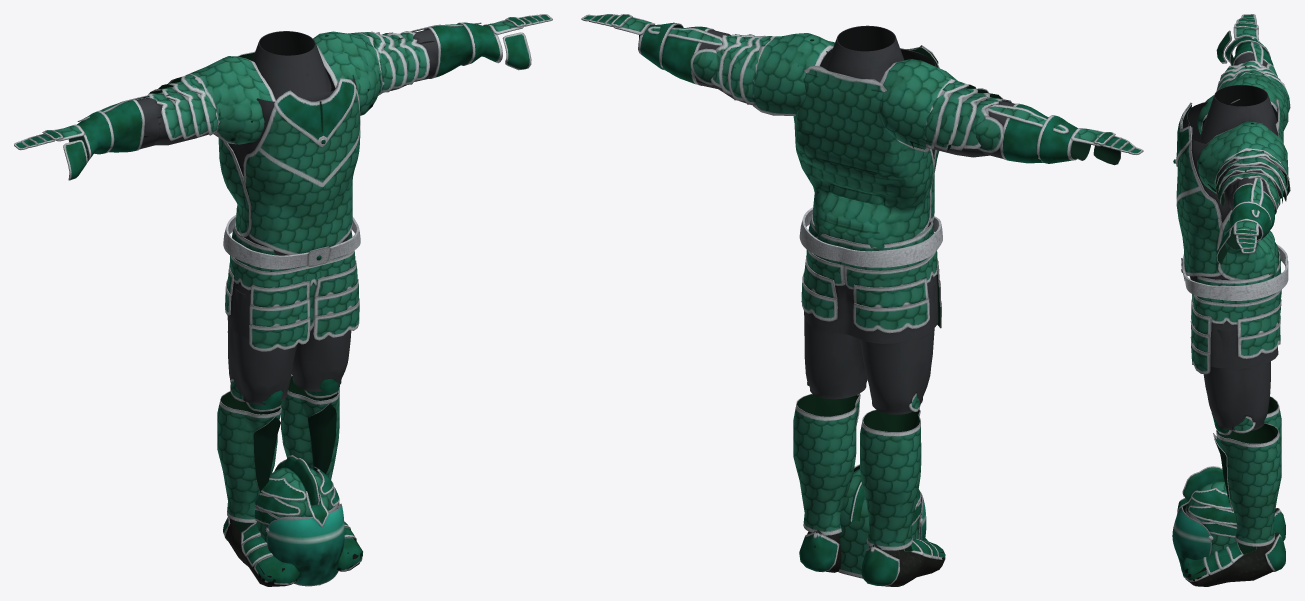
Rendered from emerald.glb.
3 views of the same model, side by side, from view 1: azimuth 30°, elevation 25°; view 2: azimuth 150°, elevation 25°; view 3: azimuth 270°, elevation 25° (orthographic). The views are drawn at different scales.
Visible parts, largest first — view 1: chest, feet, gloves, helm, legs; view 2: chest, feet, gloves, legs, helm; view 3: chest, feet, helm, gloves, legs.
Boxes of the visible parts, left/top/right/bottom form: chest: left=128, top=29, right=437, bottom=351; feet: left=217, top=376, right=362, bottom=586; gloves: left=14, top=14, right=552, bottom=180; helm: left=255, top=455, right=344, bottom=586; legs: left=227, top=288, right=351, bottom=412; chest: left=690, top=25, right=1015, bottom=343; feet: left=793, top=394, right=945, bottom=586; gloves: left=581, top=14, right=1143, bottom=165; legs: left=804, top=282, right=935, bottom=414; helm: left=837, top=464, right=926, bottom=578; chest: left=1173, top=53, right=1290, bottom=374; feet: left=1181, top=396, right=1285, bottom=586; helm: left=1172, top=466, right=1237, bottom=570; gloves: left=1216, top=14, right=1274, bottom=264; legs: left=1203, top=329, right=1270, bottom=435.
Size of the model in its own units: 1.78 by 1.65 by 0.372.
5 materials, 5 textured.
